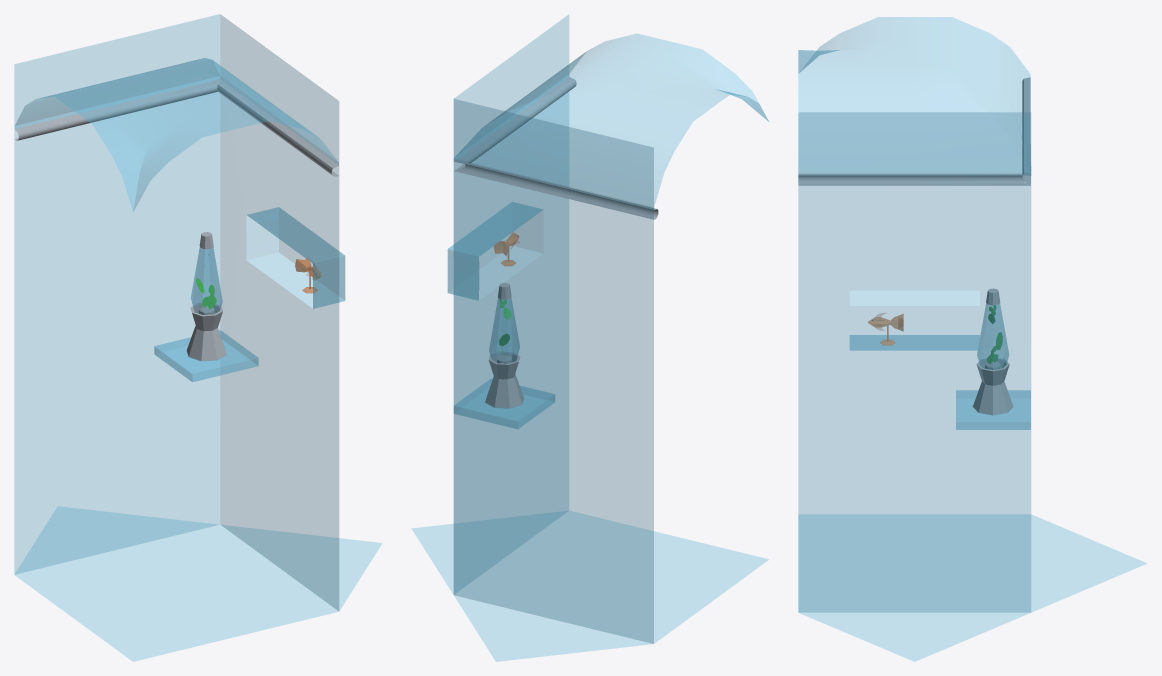
The model's file is RightTurn1.fbx.
The picture shows the model from 3 angles, left to right: view 1: azimuth 30°, elevation 25°; view 2: azimuth 150°, elevation 25°; view 3: azimuth 270°, elevation 25°; orthographic projection. The views are drawn at different scales.
Visible parts, largest first — view 1: Straight.003; view 2: Straight.003; view 3: Straight.003.
Boxes of the visible parts, x1,y1,x2,y2 form: Straight.003: (14,14,381,661); Straight.003: (412,15,768,661); Straight.003: (798,17,1146,661).
Size of the model in its own units: 180 by 284 by 180.
